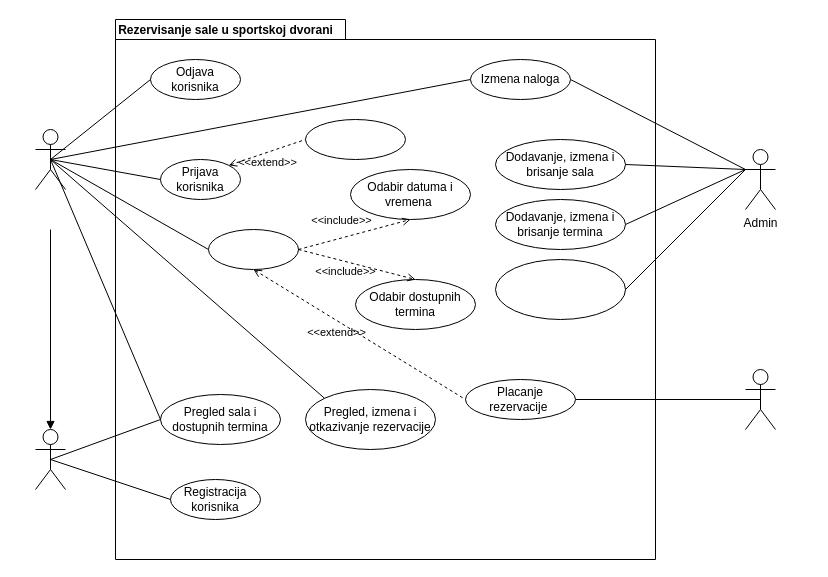
The diagram is 828 pixels wide and 577 high, and some of its shapes have lost their labels. The centre of each missing label's shape, as x and y in pixels:
Gost: the point at 50,459
Pregled svih korisnika i rezervacija: the point at 560,289
Registrovan korisnik: the point at 50,159
Resetovanje lozinke: the point at 355,139
Rezervisanje sale: the point at 253,249
Sistem za placanje: the point at 760,399
